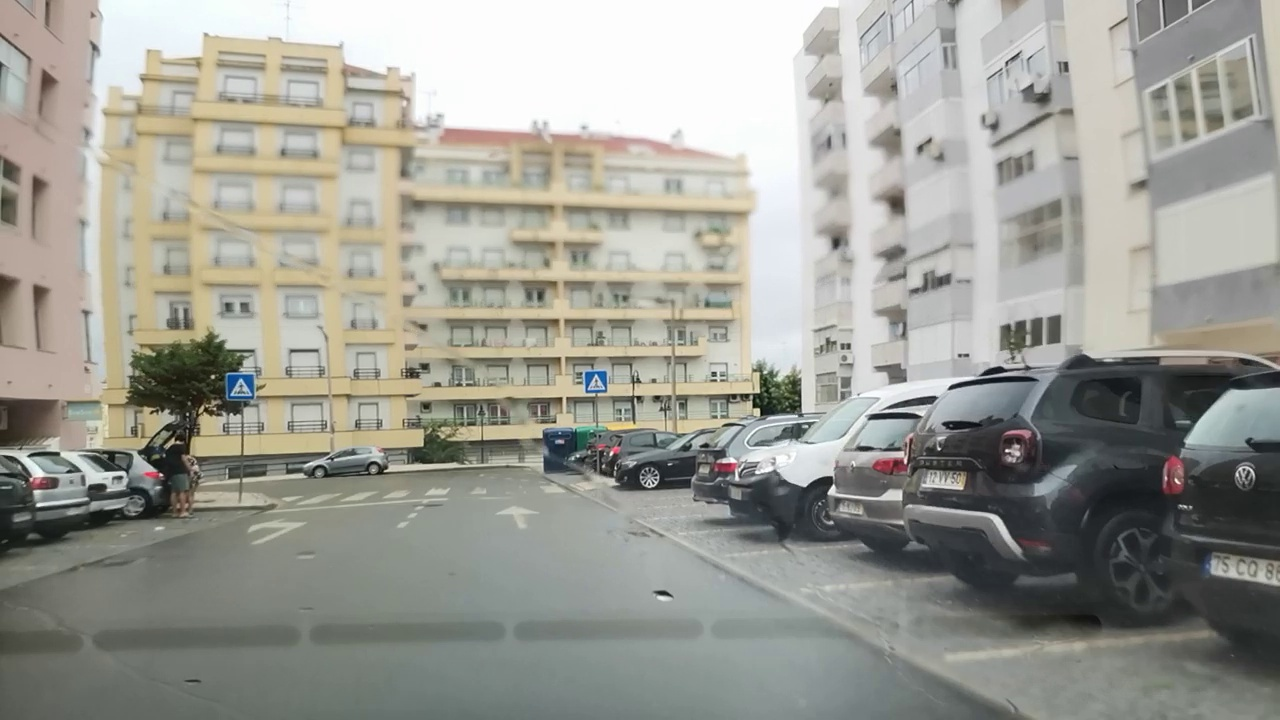Stairs: (273, 483, 570, 505)
